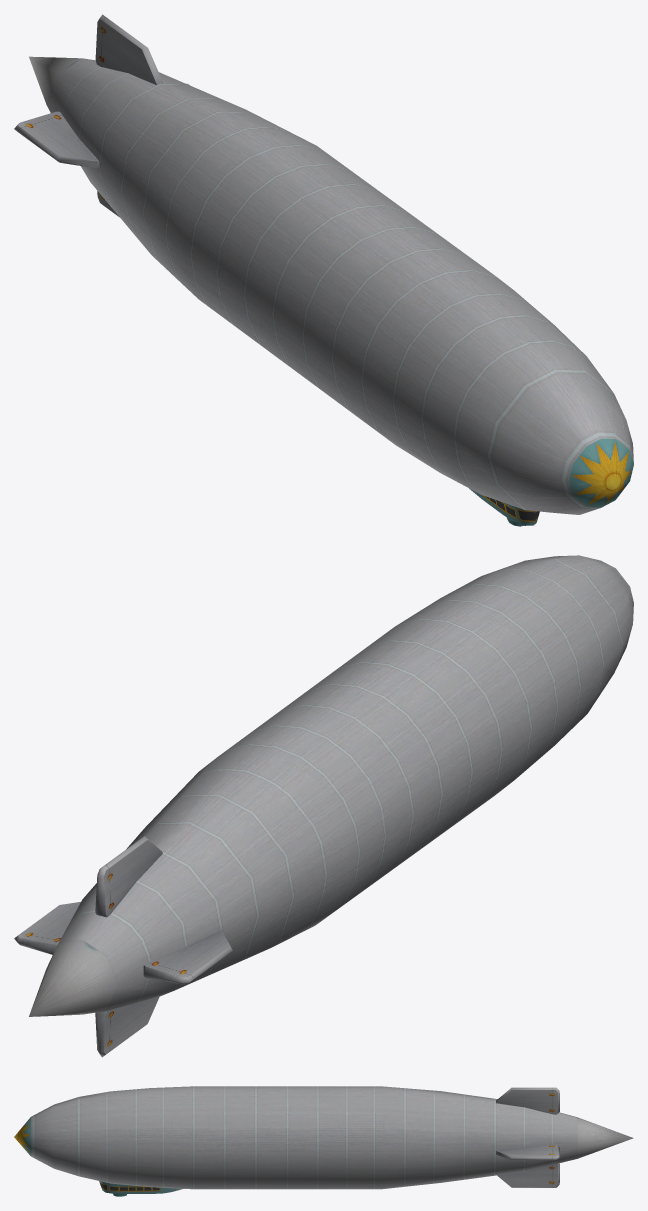
Rendered from Blimp.obj.
3 views of the same model, one above another, from view 1: azimuth 30°, elevation 25°; view 2: azimuth 150°, elevation 25°; view 3: azimuth 270°, elevation 25° (orthographic). The views are drawn at different scales.
Visible parts, largest first — view 1: nyc01_obj_smz_airshipA_000; view 2: nyc01_obj_smz_airshipA_000; view 3: nyc01_obj_smz_airshipA_000.
Boxes of the visible parts, x1,y1,x2,y2 form: nyc01_obj_smz_airshipA_000: (14, 14, 633, 526); nyc01_obj_smz_airshipA_000: (14, 555, 633, 1057); nyc01_obj_smz_airshipA_000: (14, 1086, 633, 1196).
Size of the model in its own units: 34.99 by 38.58 by 202.
